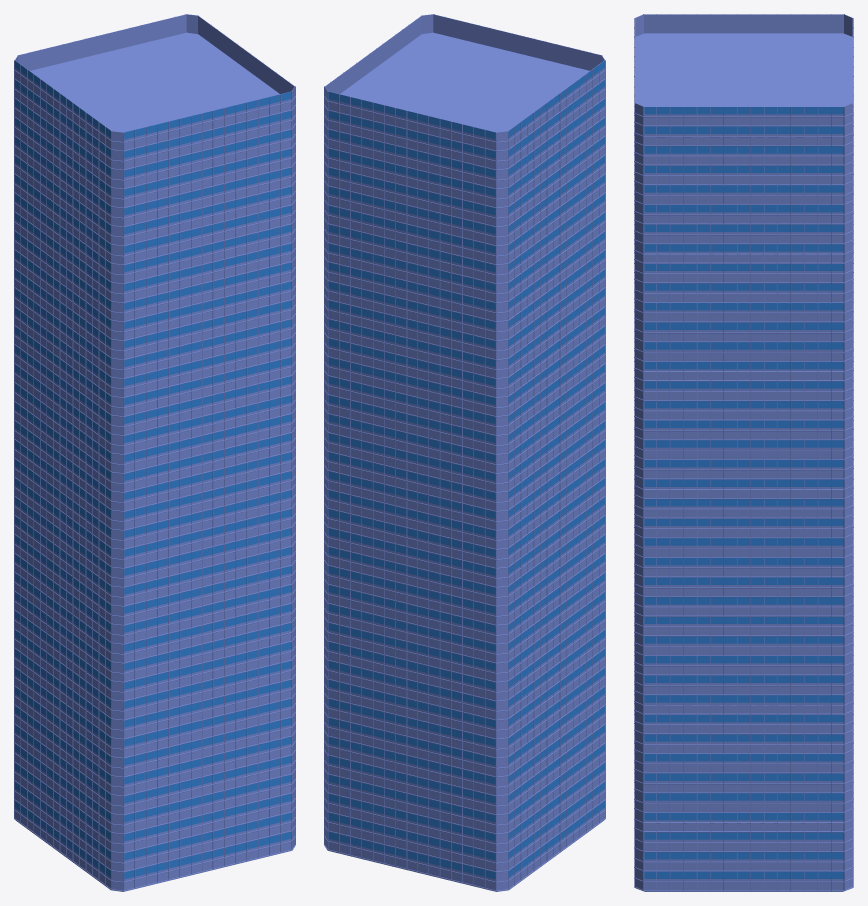
Rendered from Skyscraper.fbx.
The picture shows the model from 3 angles, left to right: view 1: azimuth 30°, elevation 25°; view 2: azimuth 150°, elevation 25°; view 3: azimuth 270°, elevation 25°; orthographic projection. The views are drawn at different scales.
Visible parts, largest first — view 1: Cube; view 2: Cube; view 3: Cube.
Boxes of the visible parts, box(x1,y1,x2,y2) form: Cube: box(14, 14, 295, 891); Cube: box(324, 14, 605, 891); Cube: box(634, 14, 853, 891).
Bounding box in the file's own units: 3278 × 12890 × 3273.
